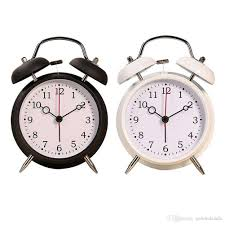alarm_clock: (11, 36, 214, 173)
